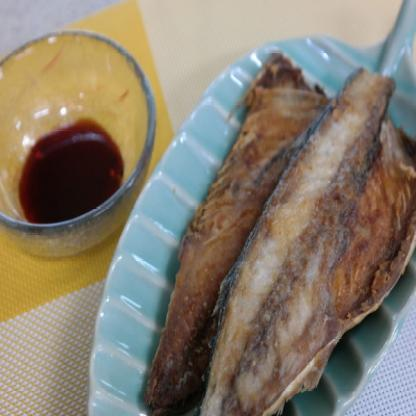Peixe: (177, 49, 416, 416)
